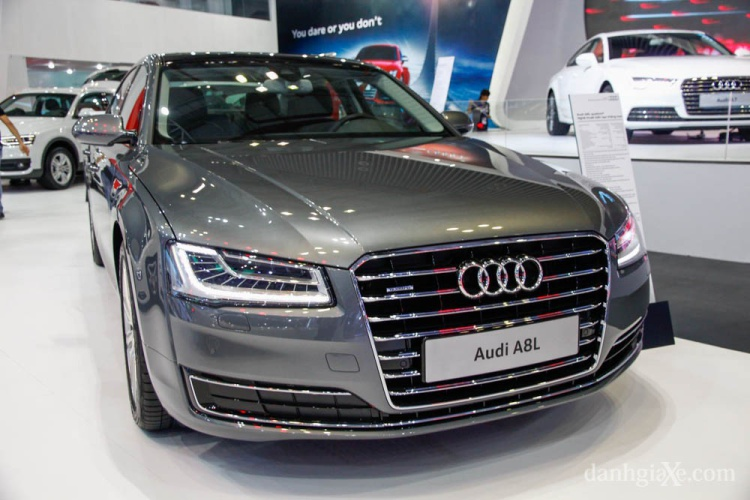audi: (446, 252, 556, 306)
